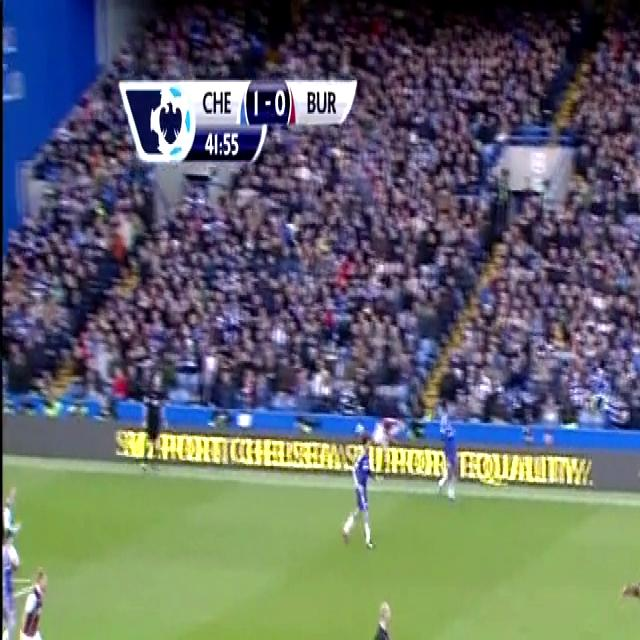referee: (132, 365, 174, 476), (363, 586, 404, 640)
soccer-player: (424, 381, 468, 504), (338, 431, 378, 552), (2, 468, 27, 626), (11, 554, 53, 640), (615, 487, 640, 631)
